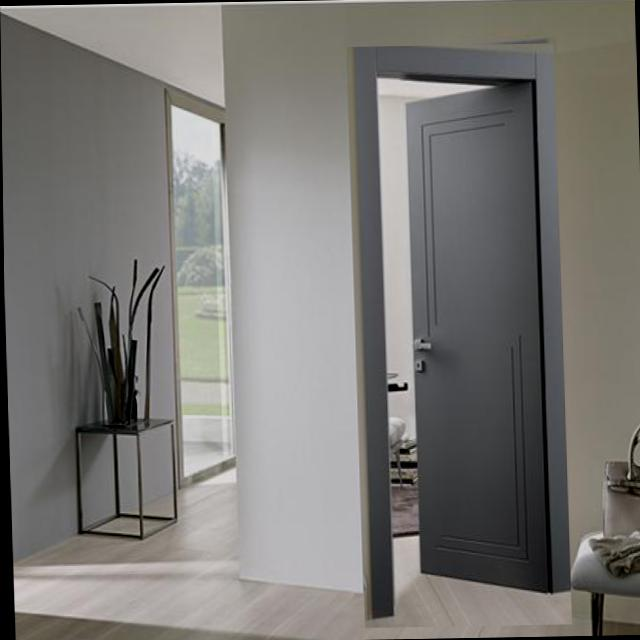semi-open: (346, 42, 571, 628)
